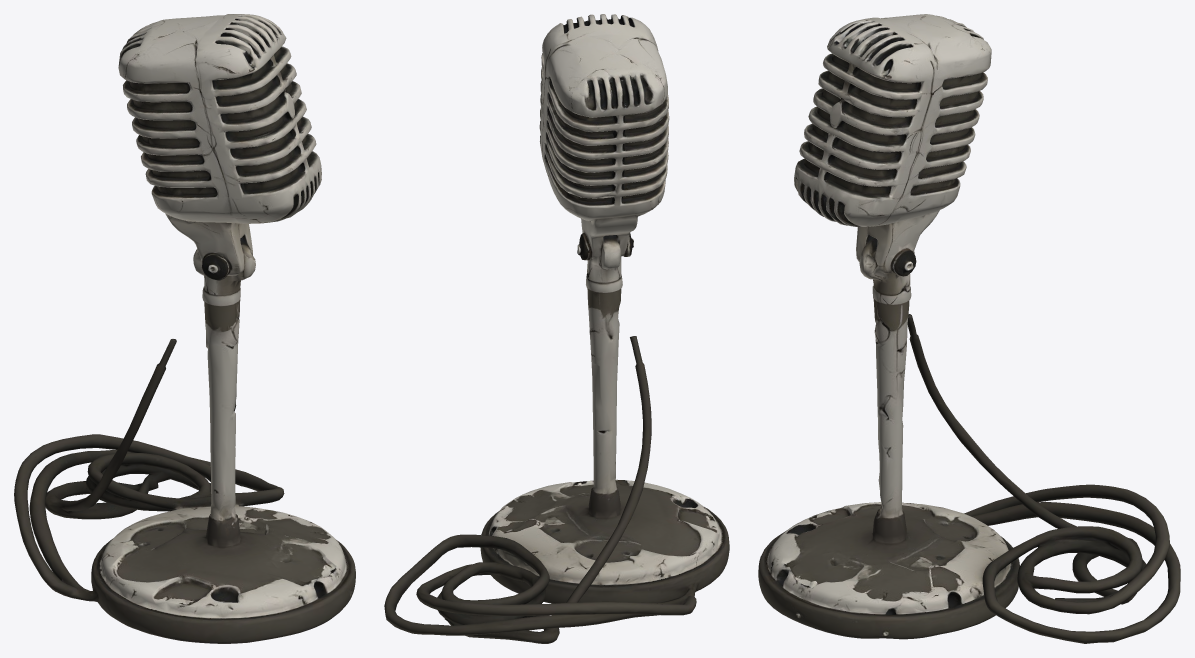
The model's file is vocals.glb.
3 renders of one model, left to right at view 1: azimuth 30°, elevation 25°; view 2: azimuth 150°, elevation 25°; view 3: azimuth 270°, elevation 25°, orthographic. The views are drawn at different scales.
Visible parts, largest first — view 1: tripo_node_4b8914d5-210d-44fd-8f3f-0118c7509d2e; view 2: tripo_node_4b8914d5-210d-44fd-8f3f-0118c7509d2e; view 3: tripo_node_4b8914d5-210d-44fd-8f3f-0118c7509d2e.
Boxes of the visible parts, x1=… form: tripo_node_4b8914d5-210d-44fd-8f3f-0118c7509d2e: x1=14, y1=14, x2=355, y2=643; tripo_node_4b8914d5-210d-44fd-8f3f-0118c7509d2e: x1=384, y1=14, x2=729, y2=643; tripo_node_4b8914d5-210d-44fd-8f3f-0118c7509d2e: x1=758, y1=14, x2=1180, y2=643.
Size of the model in its own units: 0.4838 by 1 by 0.6801.
Materials: 1 (1 with a texture image).
